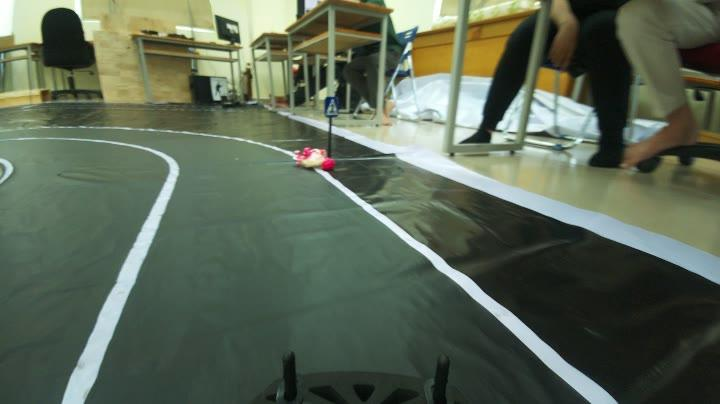crosswalk: (320, 96, 342, 118)
